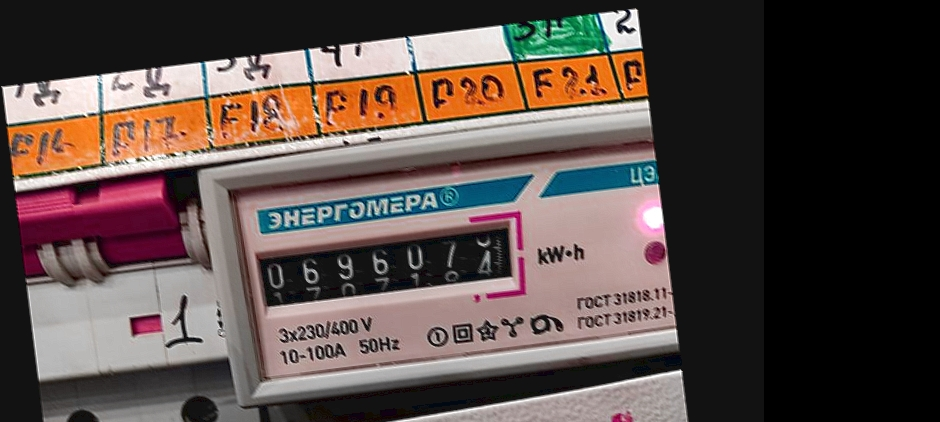0: (261, 258, 286, 290), (402, 240, 425, 271)
4: (470, 247, 493, 278)
6: (366, 244, 390, 277), (297, 254, 319, 285)
7: (437, 235, 458, 268)
9: (332, 249, 355, 281)
screen: (240, 202, 532, 328)
